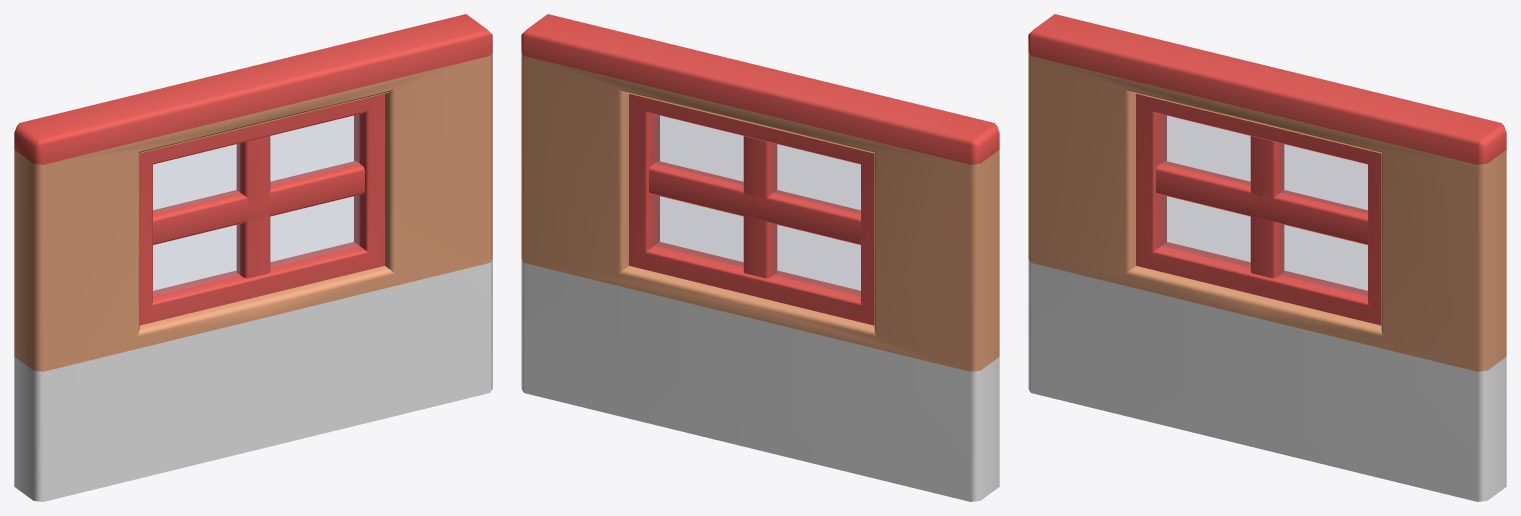
The model's file is Decor_Wall_window_B.fbx.
3 views of the same model, side by side, from view 1: azimuth 30°, elevation 25°; view 2: azimuth 150°, elevation 25°; view 3: azimuth 330°, elevation 25° (orthographic).
Parts seen in each view (by area): view 1: Decor_Wall_window_B; view 2: Decor_Wall_window_B; view 3: Decor_Wall_window_B.
Boxes of the visible parts, x1,y1,x2,y2 form: Decor_Wall_window_B: [14, 14, 492, 501]; Decor_Wall_window_B: [521, 14, 999, 501]; Decor_Wall_window_B: [1028, 14, 1506, 501].
Size of the model in its own units: 527 by 397 by 52.55.
